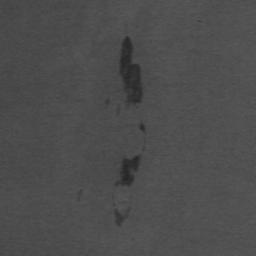Iron scale compression: (120, 37, 142, 103), (114, 157, 140, 186), (114, 204, 130, 227), (75, 188, 83, 202), (104, 98, 110, 108), (140, 123, 146, 132)
